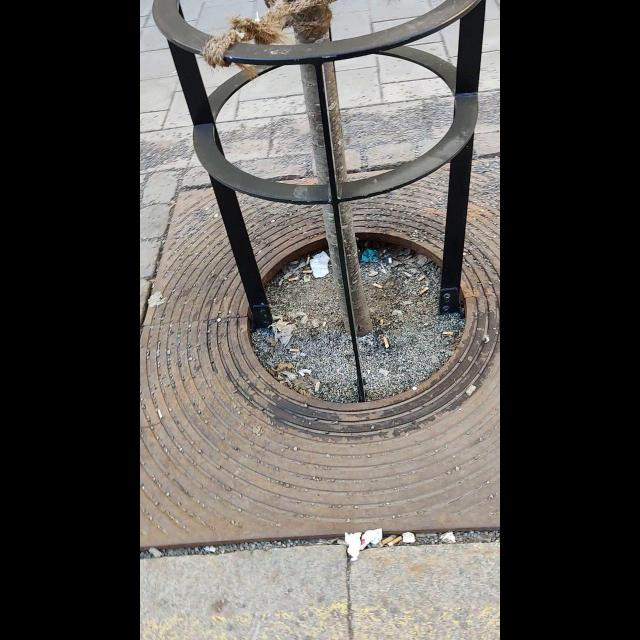cigarette: (378, 532, 394, 546), (388, 536, 404, 547), (415, 272, 430, 282), (378, 368, 390, 377), (467, 384, 475, 397), (314, 381, 322, 393), (286, 277, 301, 282), (441, 331, 453, 337), (418, 288, 427, 296), (288, 347, 301, 352), (374, 281, 383, 288), (383, 335, 388, 347), (301, 270, 313, 274), (306, 255, 310, 264)
